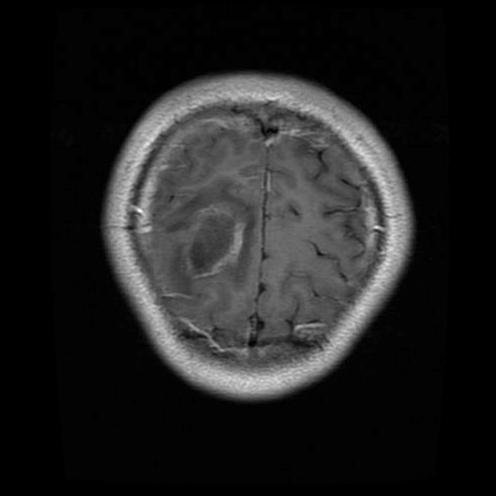Tumour-Pituitary: (171, 203, 252, 287)
